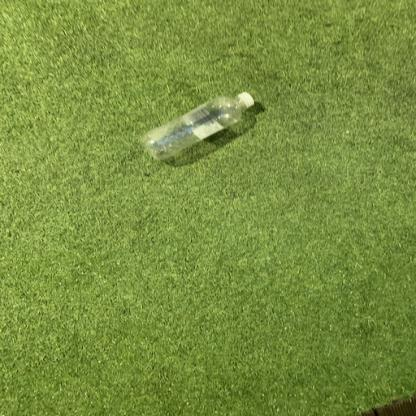trash: (141, 92, 255, 163)
